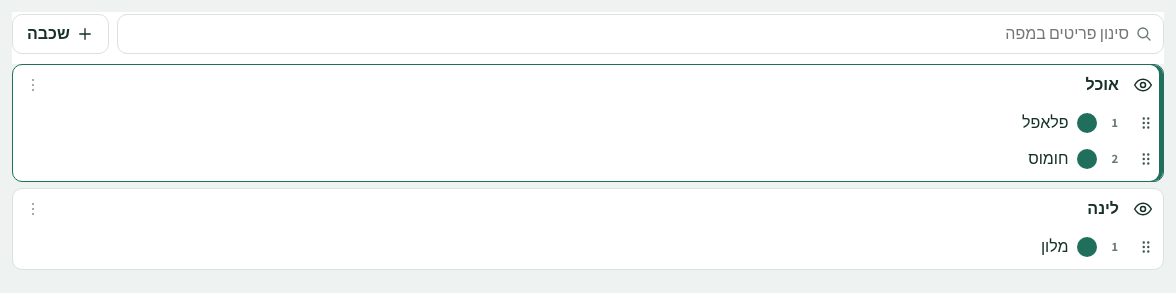
Test case: LayersPanel › long press on a layer name renames it; ✕ cancels, ✓ saves; a short tap does not rename
The image size is (1176, 293).
Press the mouse on the button "אוכל" at (1102, 84), box [51,67,1125,103]
Press the mouse on the button "אוכל" at (1102, 84), box [51,67,1125,103]
Wait 600 ms
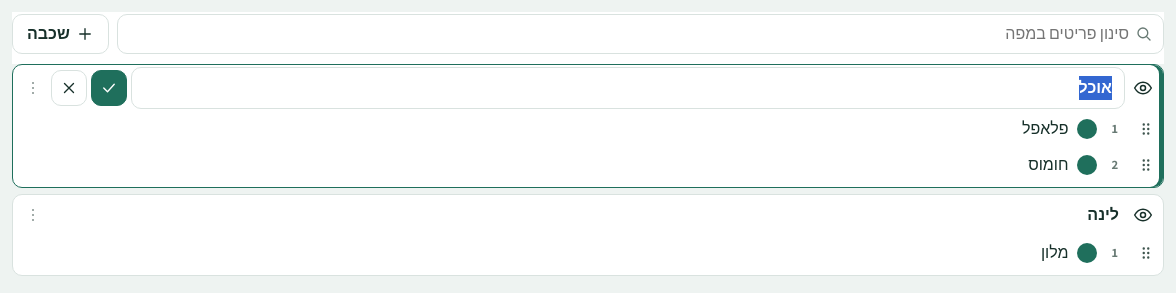
Replace the text in the field named "שם השכבה" with "מסעדות". click: (628, 88)
box: [131,67,1125,109]
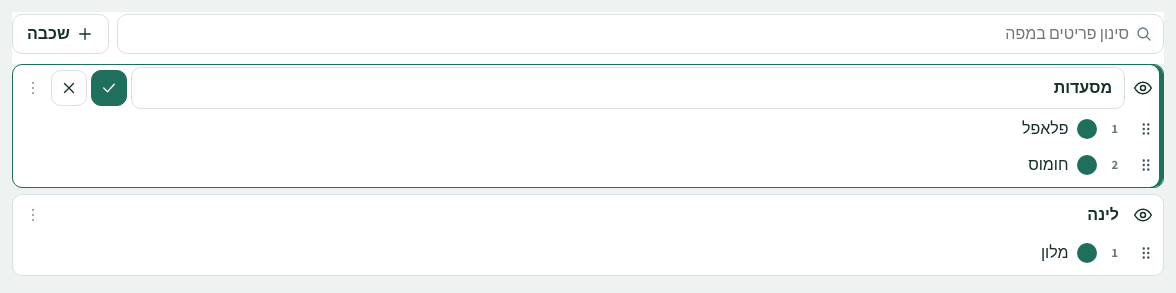
Click the button named "בטל שינוי שם". click: (69, 88)
box: [51,70,87,106]
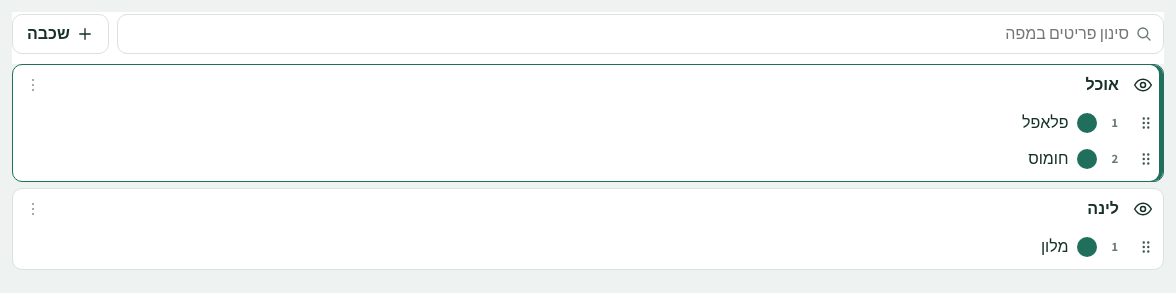
Result: the text "אוכל" is shown at [1086,74,1119,95]
Press the mouse on the button "אוכל" at (1102, 84), box [51,67,1125,103]
Wait 600 ms
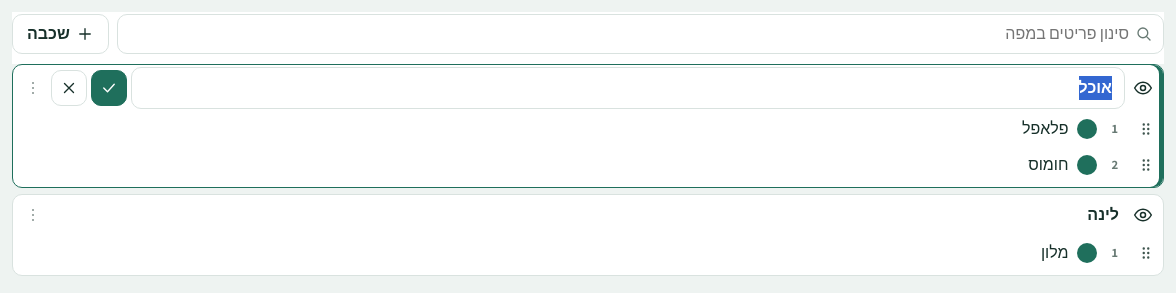
Replace the text in the field named "שם השכבה" with "מסעדות". click: (628, 88)
box: [131,67,1125,109]
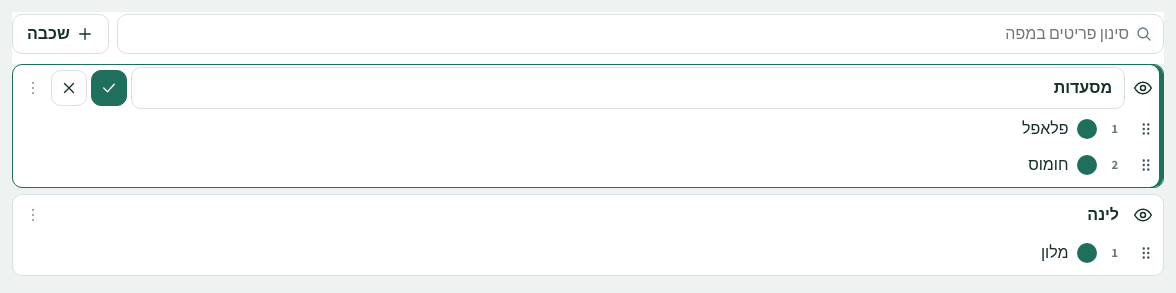
Click the button named "שמור שם". click: (109, 88)
box: [91,70,127,106]
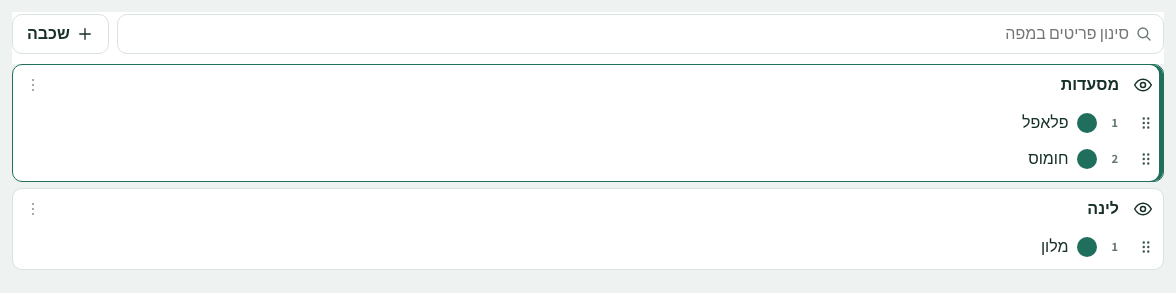
Result: the text "מסעדות" is shown at [1061,74,1119,95]
